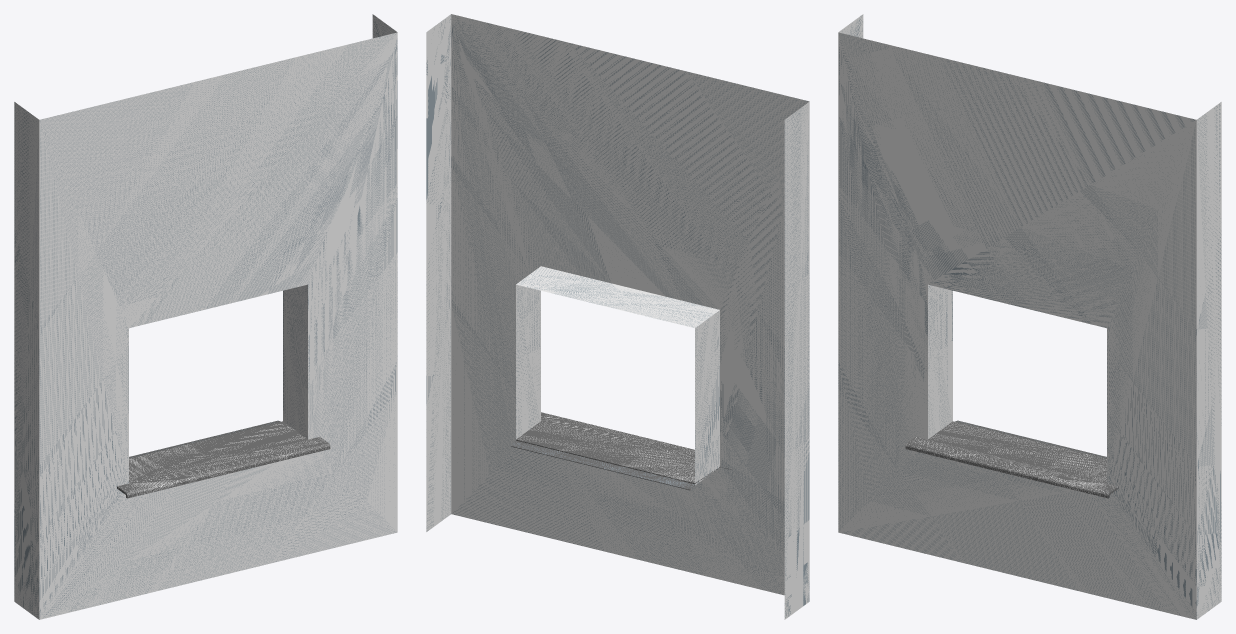
File: WindowBlock_os_[300x400]_150x124x[090].dae
3 views of the same model, side by side, from view 1: azimuth 30°, elevation 25°; view 2: azimuth 150°, elevation 25°; view 3: azimuth 330°, elevation 25° (orthographic).
Parts seen in each view (by area): view 1: group_2 (×2), group_1; view 2: group_2 (×2), group_1 (×2); view 3: group_2 (×2), group_1.
Part boxes in pixels (bbox=[...]): group_2 (×2): bbox=[14, 14, 397, 619]; group_1: bbox=[117, 421, 330, 498]; group_2 (×2): bbox=[426, 14, 809, 619]; group_1 (×2): bbox=[511, 412, 731, 490]; group_2 (×2): bbox=[838, 14, 1221, 619]; group_1: bbox=[905, 421, 1118, 498].
Bounding box in the file's own units: 118 × 23.03 × 157.
